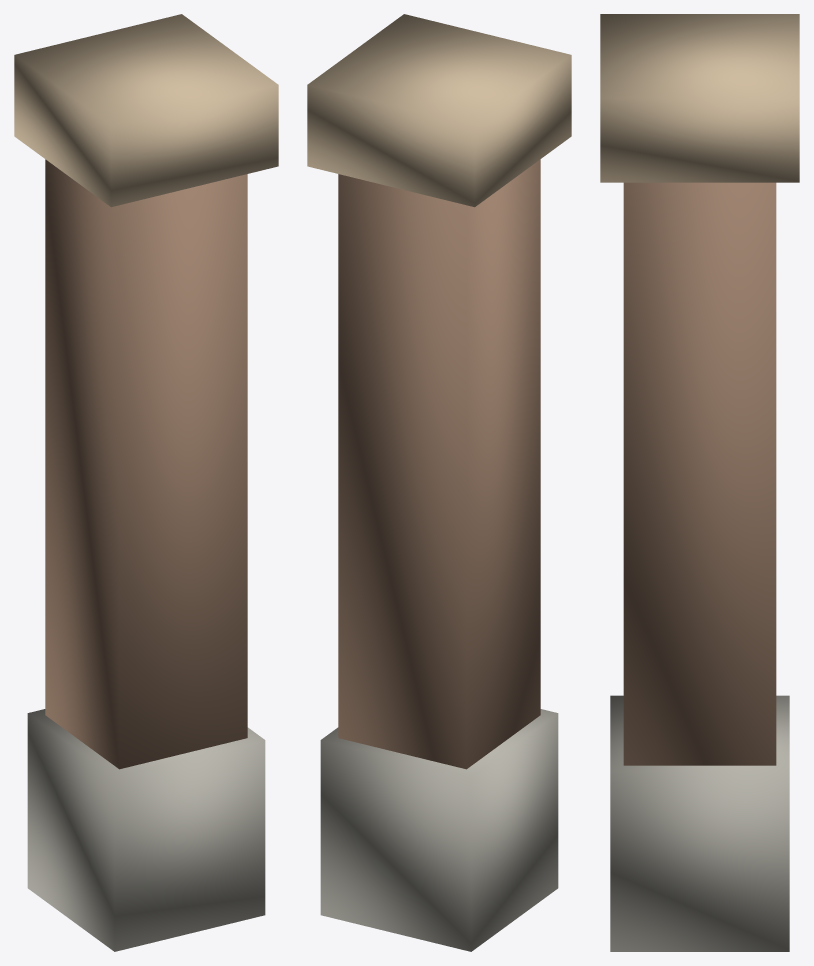
3 views of the same model, side by side, from view 1: azimuth 30°, elevation 25°; view 2: azimuth 150°, elevation 25°; view 3: azimuth 270°, elevation 25° (orthographic). The views are drawn at different scales.
Parts seen in each view (by area): view 1: world; view 2: world; view 3: world.
Boxes of the visible parts, x1,y1,x2,y2 form: world: [14, 14, 278, 951]; world: [307, 14, 571, 951]; world: [600, 14, 799, 951].
Bounding box in the file's own units: 0.3 × 1.42 × 0.3.
